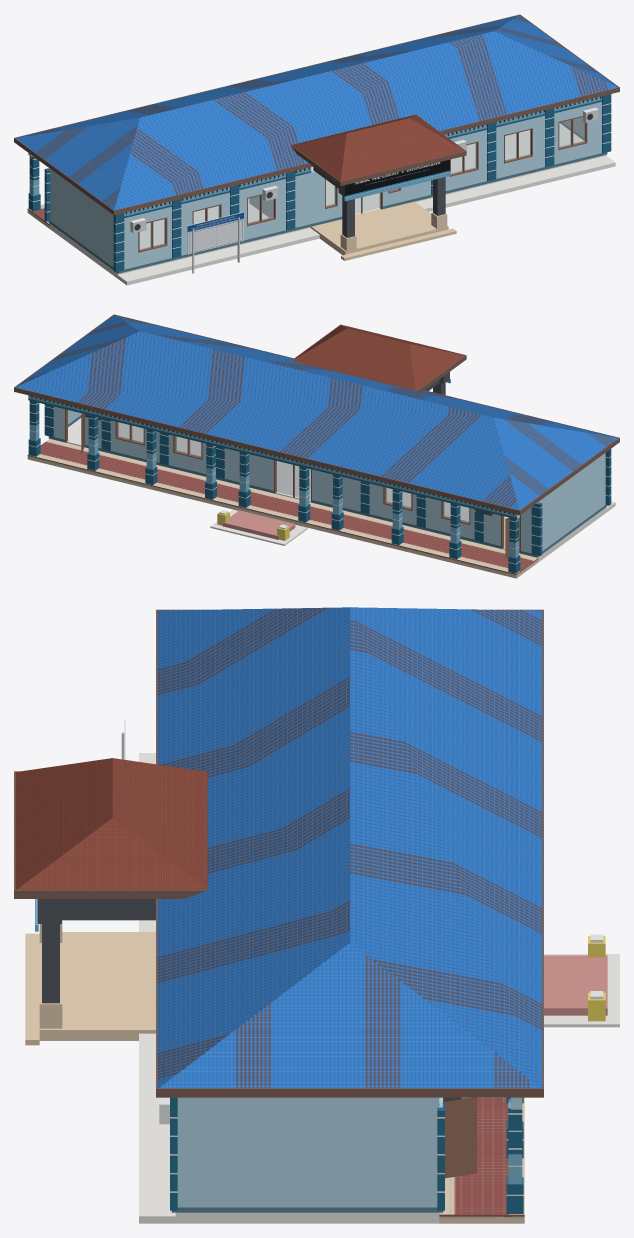
Rendered from gedung_utama_kepsek_tu.glb.
3 renders of one model, top to bottom at view 1: azimuth 30°, elevation 25°; view 2: azimuth 150°, elevation 25°; view 3: azimuth 270°, elevation 25°, orthographic. The views are drawn at different scales.
Parts seen in each view (by area): view 1: Atap_Utama_Biru, Dinding_Biru_Muda, Lantai_Interior_Dan_Selasar, Atap_Portiko_Lobi_Coklat, Umpak_Marmer_Lobi, Pilaster_Dan_Kolom_Biru_Teal, Atap_Lisplang_Coklat, Kaca_Jendela_Transparan, Lis_Ventilasi_Persegi, Kusen_Pintu_Meja_Kantor, Plint_Bawah, Papan_Info_BOS (+4 smaller); view 2: Atap_Utama_Biru, Lantai_Koridor_Terracotta, Dinding_Biru_Muda, Atap_Portiko_Lobi_Coklat, Pilaster_Dan_Kolom_Biru_Teal, Atap_Lisplang_Coklat, Kolom_Koridor_Belakang, Lantai_Interior_Dan_Selasar, Lis_Ventilasi_Persegi, Kaca_Jendela_Transparan, Kusen_Pintu_Meja_Kantor, Plint_Bawah (+1 smaller); view 3: Atap_Utama_Biru, Dinding_Biru_Muda, Atap_Portiko_Lobi_Coklat, Umpak_Marmer_Lobi, Lantai_Interior_Dan_Selasar, Atap_Lisplang_Coklat, Lantai_Koridor_Terracotta, Pilar_Granit_Hitam_Lobi, Panggung_Merah_Halaman, Pilaster_Dan_Kolom_Biru_Teal, Kusen_Pintu_Meja_Kantor, Plint_Bawah (+1 smaller).
Part boxes in pixels (<box>): Atap_Utama_Biru: <box>15,15,618,210</box>; Dinding_Biru_Muda: <box>28,102,601,269</box>; Lantai_Interior_Dan_Selasar: <box>49,123,615,285</box>; Atap_Portiko_Lobi_Coklat: <box>292,114,464,181</box>; Umpak_Marmer_Lobi: <box>310,201,456,260</box>; Pilaster_Dan_Kolom_Biru_Teal: <box>28,94,611,272</box>; Atap_Lisplang_Coklat: <box>14,14,619,215</box>; Kaca_Jendela_Transparan: <box>139,117,585,250</box>; Lis_Ventilasi_Persegi: <box>124,96,601,218</box>; Kusen_Pintu_Meja_Kantor: <box>138,116,587,252</box>; Plint_Bawah: <box>48,122,607,273</box>; Papan_Info_BOS: <box>187,212,243,254</box>; Atap_Utama_Biru: <box>15,315,618,510</box>; Lantai_Koridor_Terracotta: <box>27,439,538,578</box>; Dinding_Biru_Muda: <box>54,406,605,553</box>; Atap_Portiko_Lobi_Coklat: <box>292,325,464,390</box>; Pilaster_Dan_Kolom_Biru_Teal: <box>28,404,611,573</box>; Atap_Lisplang_Coklat: <box>14,314,619,515</box>; Kolom_Koridor_Belakang: <box>29,400,518,557</box>; Lantai_Interior_Dan_Selasar: <box>51,418,615,562</box>; Lis_Ventilasi_Persegi: <box>28,379,516,519</box>; Kaca_Jendela_Transparan: <box>117,422,469,522</box>; Kusen_Pintu_Meja_Kantor: <box>65,409,520,557</box>; Plint_Bawah: <box>48,415,607,557</box>; Atap_Utama_Biru: <box>157,607,542,1088</box>; Dinding_Biru_Muda: <box>177,1097,522,1207</box>; Atap_Portiko_Lobi_Coklat: <box>15,758,207,889</box>; Umpak_Marmer_Lobi: <box>25,920,155,1045</box>; Lantai_Interior_Dan_Selasar: <box>139,753,619,1223</box>; Atap_Lisplang_Coklat: <box>14,609,543,1097</box>; Lantai_Koridor_Terracotta: <box>439,1097,524,1223</box>; Pilar_Granit_Hitam_Lobi: <box>37,899,155,1003</box>; Panggung_Merah_Halaman: <box>544,955,607,1015</box>; Pilaster_Dan_Kolom_Biru_Teal: <box>170,1097,523,1213</box>; Kusen_Pintu_Meja_Kantor: <box>443,1097,476,1178</box>; Plint_Bawah: <box>171,1207,443,1212</box>.
Size of the model in its own units: 27.96 by 5.9 by 14.93.
Materials: 23 (9 with a texture image).
